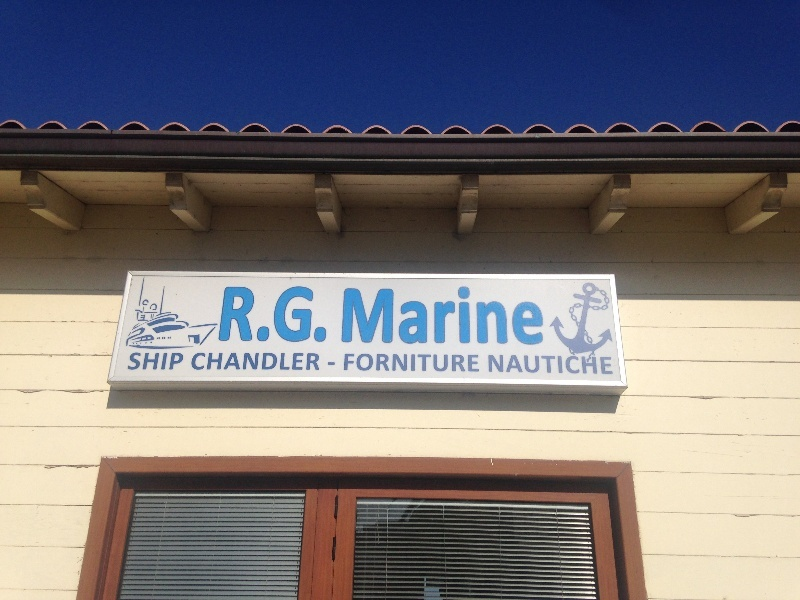text: (529, 286, 545, 346), (225, 286, 240, 346), (241, 286, 256, 346), (257, 286, 272, 346), (273, 286, 288, 346), (289, 286, 304, 346), (305, 286, 320, 346), (321, 286, 336, 346), (337, 286, 352, 346), (353, 286, 368, 346), (369, 286, 384, 346), (385, 286, 400, 346), (401, 286, 416, 346), (417, 286, 432, 346), (433, 286, 448, 346), (449, 286, 464, 346), (465, 286, 480, 346), (481, 286, 496, 346), (497, 286, 512, 346), (513, 286, 528, 346), (145, 351, 160, 371), (161, 351, 176, 371), (497, 355, 512, 374), (513, 355, 528, 374), (529, 355, 544, 374), (545, 355, 560, 374), (561, 355, 576, 374), (577, 355, 592, 374), (593, 355, 608, 374), (193, 352, 208, 370), (209, 352, 224, 370), (225, 352, 240, 370), (241, 352, 256, 370), (257, 352, 272, 370), (273, 352, 288, 370), (289, 352, 304, 370), (305, 352, 320, 370), (353, 354, 368, 372), (369, 354, 384, 372), (385, 354, 400, 372), (401, 354, 416, 372), (417, 354, 432, 372), (433, 354, 448, 372), (449, 354, 464, 372), (131, 351, 144, 371), (465, 354, 479, 372), (177, 351, 185, 371), (489, 355, 496, 374), (345, 354, 352, 372), (609, 355, 613, 374), (328, 363, 336, 365)
